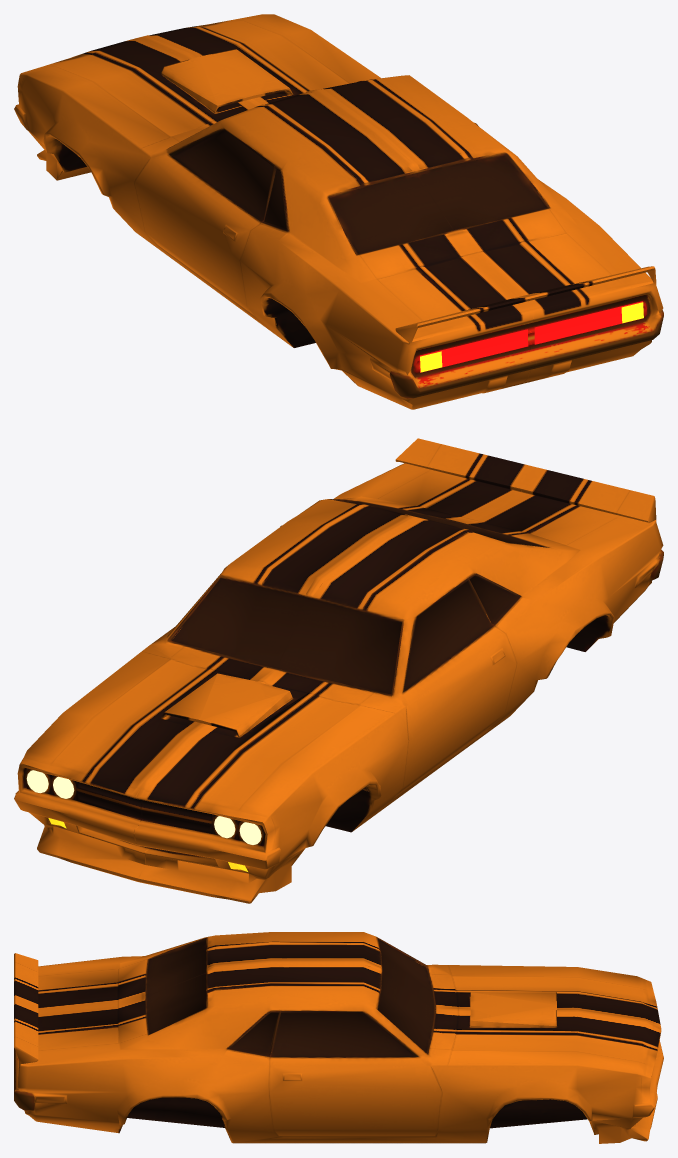
Rendered from muscle-car.glb.
The picture shows the model from 3 angles, top to bottom: view 1: azimuth 30°, elevation 25°; view 2: azimuth 150°, elevation 25°; view 3: azimuth 270°, elevation 25°; orthographic projection. The views are drawn at different scales.
Parts seen in each view (by area): view 1: body, tail_R, tail_L; view 2: body, head_R, head_L; view 3: body.
Part boxes in pixels (bbox=[...]): body: bbox=[14, 14, 663, 409]; tail_R: bbox=[534, 301, 642, 344]; tail_L: bbox=[419, 329, 528, 372]; body: bbox=[14, 438, 663, 903]; head_R: bbox=[26, 770, 74, 798]; head_L: bbox=[214, 816, 261, 844]; body: bbox=[14, 932, 663, 1143].
Bounding box in the file's own units: 1.87 × 1.01 × 4.25.
Materials: 7 (1 with a texture image).
